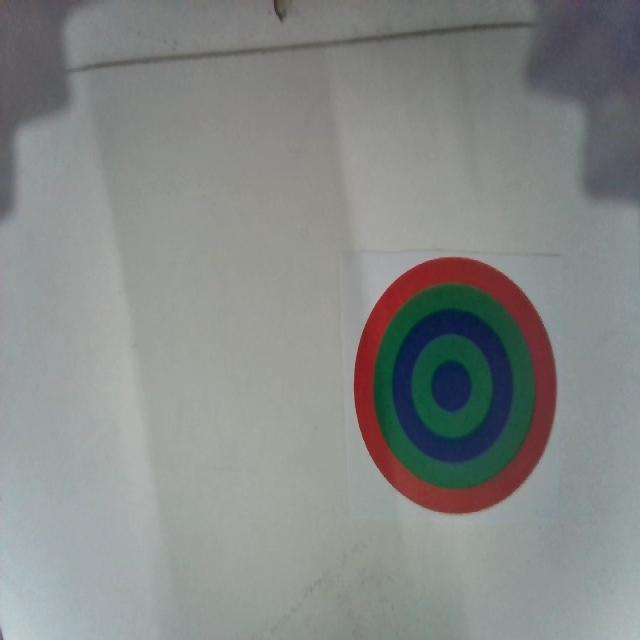cogn: (354, 257, 555, 515)
